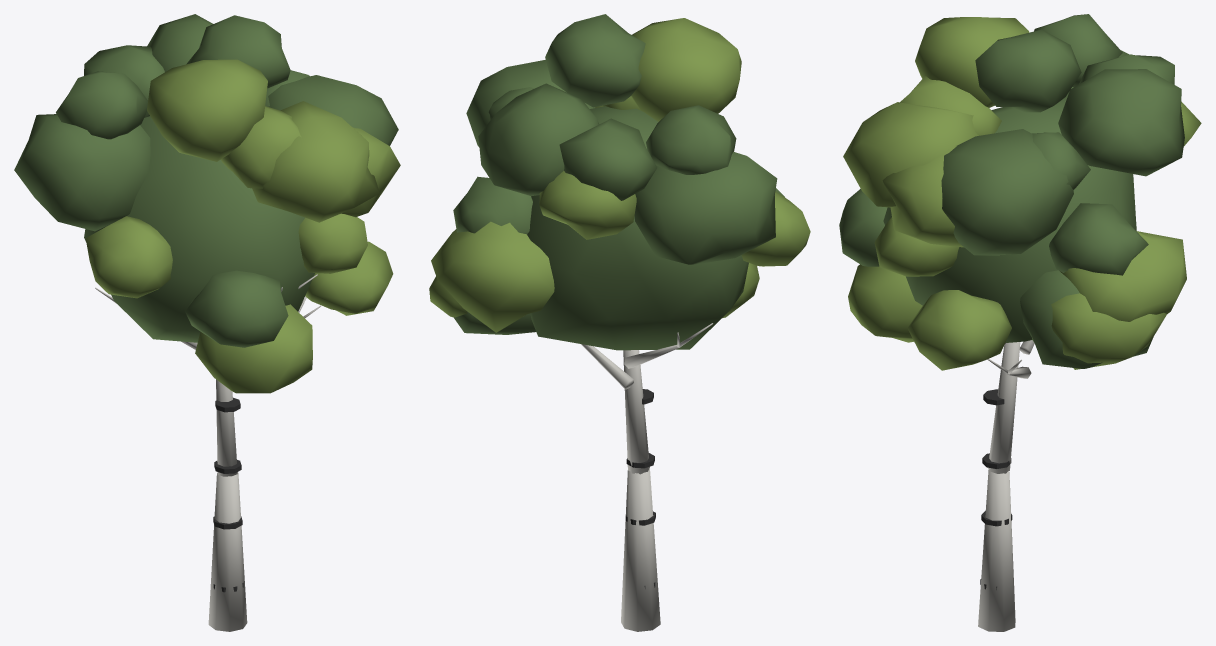
File: node_tree_birch_2.glb
The picture shows the model from 3 angles, left to right: view 1: azimuth 30°, elevation 25°; view 2: azimuth 150°, elevation 25°; view 3: azimuth 270°, elevation 25°; orthographic projection. The views are drawn at different scales.
Visible parts, largest first — view 1: blob.021, blob.003, blob.008, blob.010, blob.013, blob.002, blob.014, cyl, blob.011, blob.017, blob.005, blob.016 (+6 smaller); view 2: blob.021, blob.003, blob.020, blob.008, blob.015, blob.005, blob.009, cyl, blob.011, blob.004, blob.001, blob.017 (+6 smaller); view 3: blob.017, blob.015, blob.021, blob.010, blob.005, blob.020, blob.016, blob.008, blob.001, blob, cyl, blob.006 (+9 smaller).
Part boxes in pixels (x1=…): blob.021: x1=84, y1=116, x2=314, y2=342; blob.003: x1=14, y1=114, x2=150, y2=231; blob.008: x1=147, y1=59, x2=267, y2=161; blob.010: x1=252, y1=101, x2=379, y2=222; blob.013: x1=185, y1=270, x2=288, y2=347; blob.002: x1=195, y1=304, x2=312, y2=393; blob.014: x1=85, y1=216, x2=172, y2=298; cyl: x1=208, y1=472, x2=247, y2=631; blob.011: x1=56, y1=71, x2=147, y2=139; blob.017: x1=268, y1=75, x2=398, y2=145; blob.005: x1=186, y1=15, x2=290, y2=88; blob.016: x1=305, y1=241, x2=393, y2=315; blob.021: x1=527, y1=106, x2=748, y2=350; blob.003: x1=634, y1=151, x2=777, y2=264; blob.020: x1=431, y1=221, x2=554, y2=332; blob.008: x1=631, y1=18, x2=741, y2=121; blob.015: x1=478, y1=83, x2=599, y2=196; blob.005: x1=545, y1=14, x2=645, y2=107; blob.009: x1=559, y1=118, x2=657, y2=200; cyl: x1=621, y1=469, x2=660, y2=631; blob.011: x1=646, y1=105, x2=736, y2=174; blob.004: x1=539, y1=171, x2=636, y2=239; blob.001: x1=453, y1=176, x2=532, y2=234; blob.017: x1=466, y1=59, x2=595, y2=146; blob.017: x1=941, y1=129, x2=1073, y2=255; blob.015: x1=1058, y1=69, x2=1184, y2=176; blob.021: x1=883, y1=91, x2=1136, y2=342; blob.010: x1=843, y1=102, x2=978, y2=207; blob.005: x1=975, y1=29, x2=1081, y2=112; blob.020: x1=1060, y1=231, x2=1186, y2=321; blob.016: x1=907, y1=290, x2=1011, y2=370; blob.008: x1=915, y1=17, x2=1029, y2=107; blob.001: x1=1049, y1=203, x2=1148, y2=275; blob: x1=1051, y1=293, x2=1166, y2=369; cyl: x1=978, y1=469, x2=1015, y2=631; blob.006: x1=882, y1=145, x2=963, y2=247.
Size of the model in its own units: 4.38 by 7.55 by 4.13.
